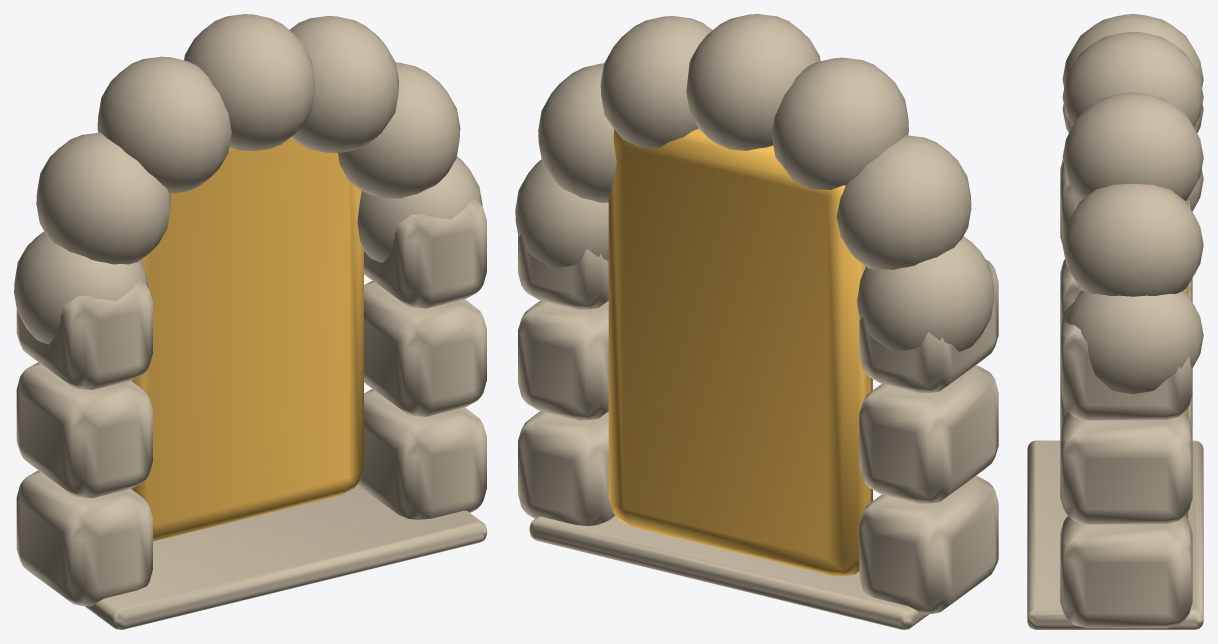
File: clay_exit.glb
The picture shows the model from 3 angles, left to right: view 1: azimuth 30°, elevation 25°; view 2: azimuth 150°, elevation 25°; view 3: azimuth 270°, elevation 25°; orthographic projection. The views are drawn at different scales.
Parts seen in each view (by area): view 1: clay_exit; view 2: clay_exit; view 3: clay_exit.
Part boxes in pixels (bbox=[...]): clay_exit: bbox=[14, 14, 486, 629]; clay_exit: bbox=[515, 14, 998, 629]; clay_exit: bbox=[1027, 14, 1203, 629].
Bounding box in the file's own units: 1.13 × 1.27 × 0.4.
